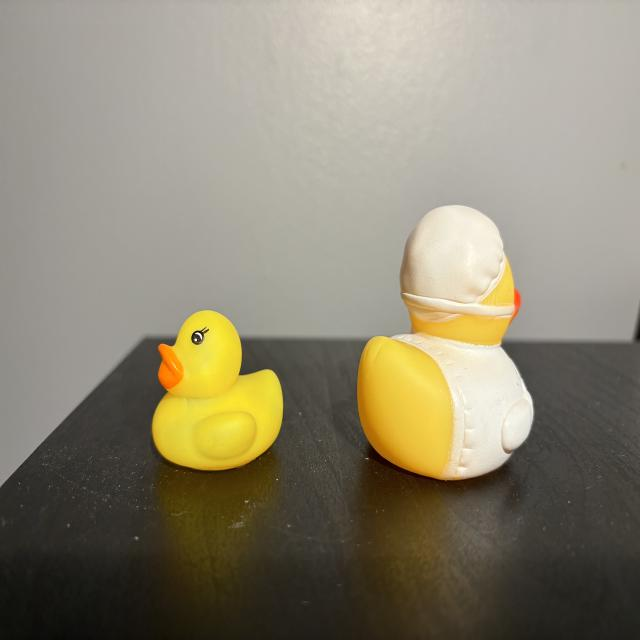duck_regular: (153, 311, 285, 473)
duck_specialty: (359, 204, 537, 484)
